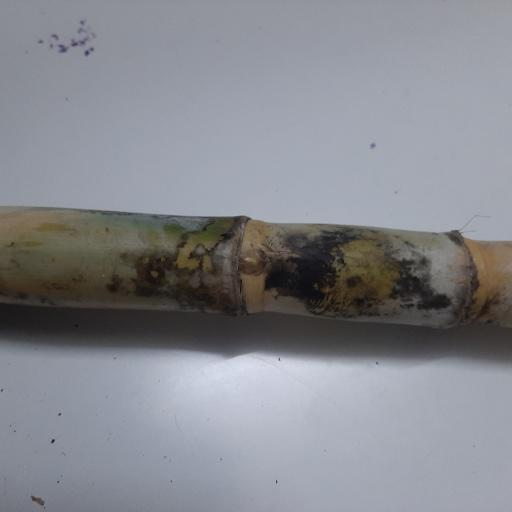Bud: (237, 250, 263, 274)
